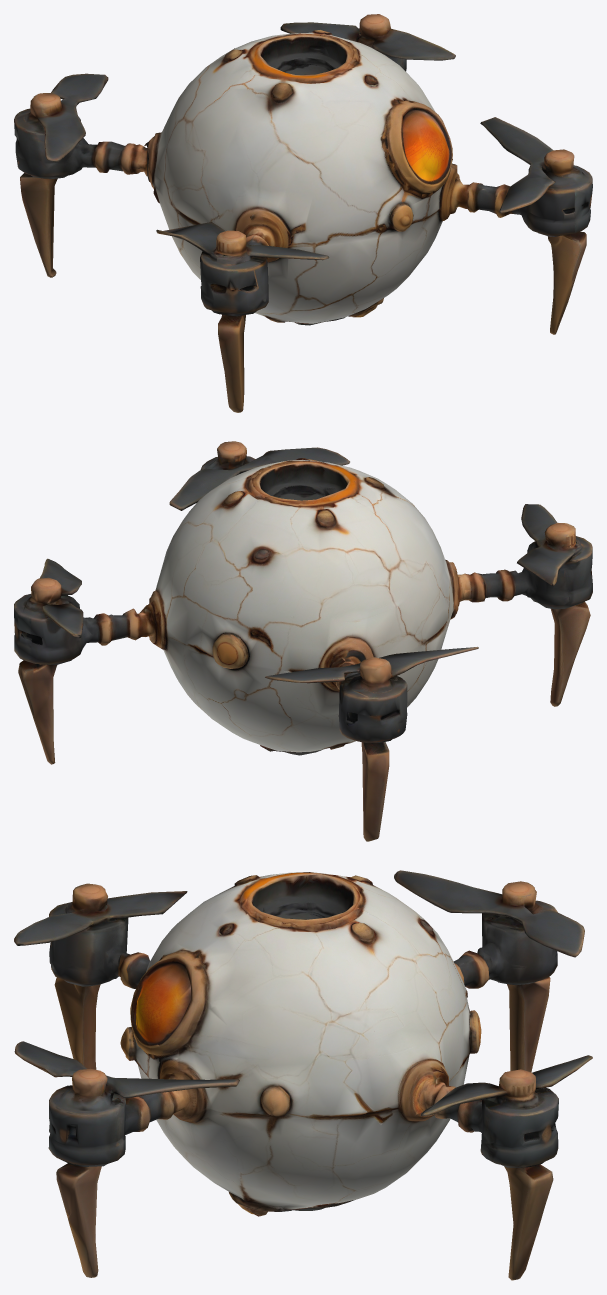
File: chaff_drone.glb
The picture shows the model from 3 angles, top to bottom: view 1: azimuth 30°, elevation 25°; view 2: azimuth 150°, elevation 25°; view 3: azimuth 270°, elevation 25°; orthographic projection. The views are drawn at different scales.
Size of the model in its own units: 1.94 by 1.18 by 2.
Materials: 1 (1 with a texture image).
